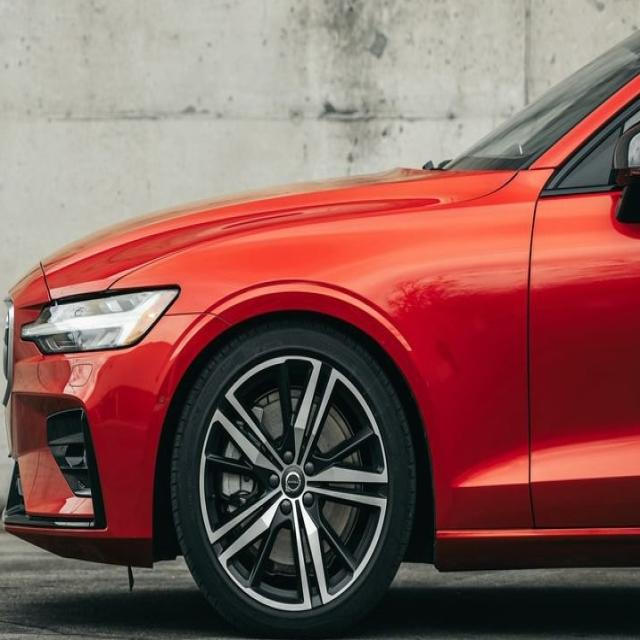red: (3, 32, 640, 583)
